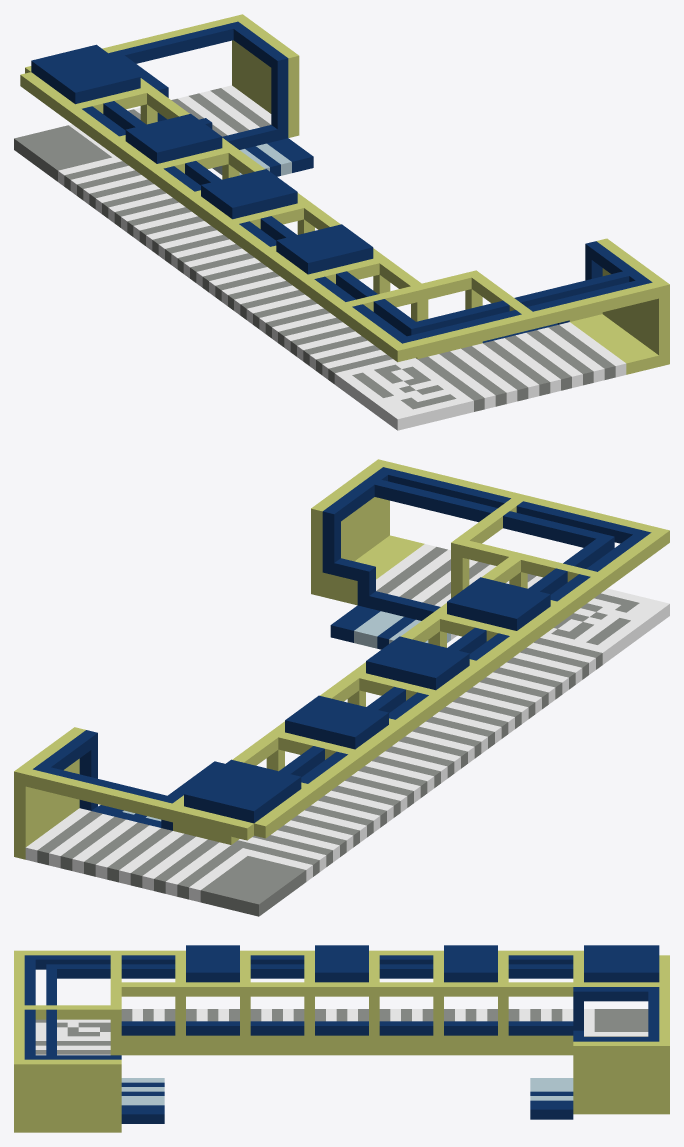
The model's file is Segregate.gltf.
3 renders of one model, top to bottom at view 1: azimuth 30°, elevation 25°; view 2: azimuth 150°, elevation 25°; view 3: azimuth 270°, elevation 25°, orthographic. The views are drawn at different scales.
Bounding box in the file's own units: 2.5 × 0.9 × 6.1.
1 material, 1 textured.
